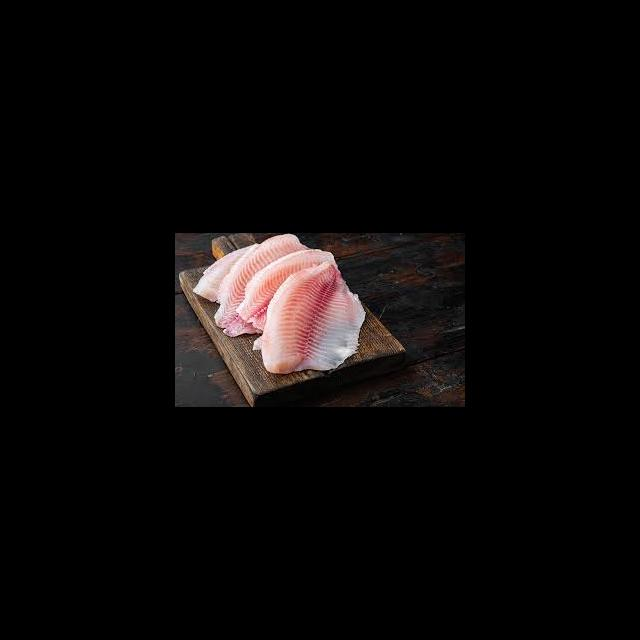fish: (256, 254, 369, 380)
